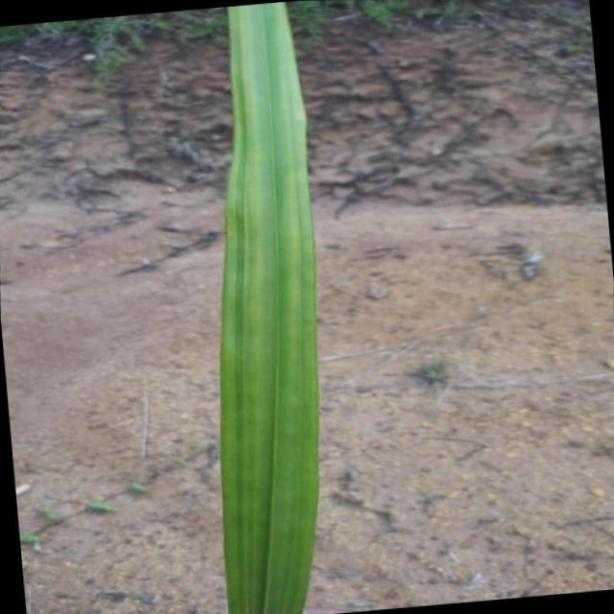nitrogen: (219, 5, 320, 614)
